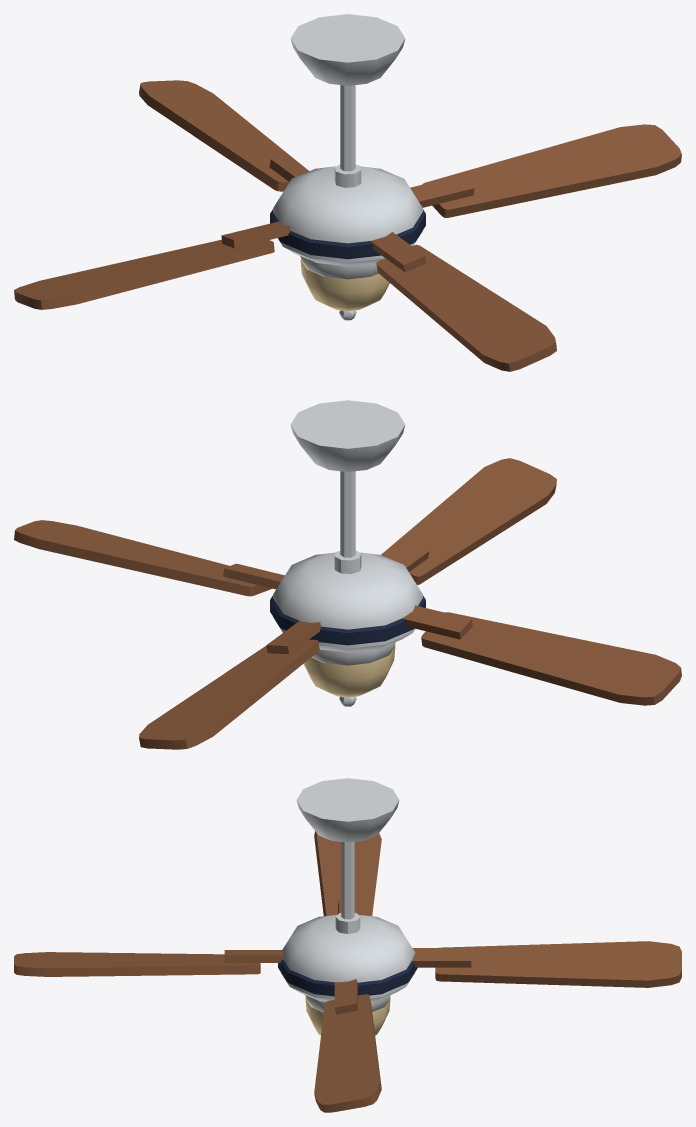
File: Shop_CeilingFan.fbx
3 views of the same model, one above another, from view 1: azimuth 30°, elevation 25°; view 2: azimuth 150°, elevation 25°; view 3: azimuth 270°, elevation 25° (orthographic). The views are drawn at different scales.
Parts seen in each view (by area): view 1: Blades, Chrome, Bowl, Band; view 2: Blades, Chrome, Bowl, Band; view 3: Blades, Chrome, Band, Bowl.
Boxes of the visible parts, bbox=[...] form: Blades: bbox=[14, 80, 681, 371]; Chrome: bbox=[273, 14, 422, 320]; Bowl: bbox=[300, 258, 389, 311]; Band: bbox=[270, 209, 425, 259]; Blades: bbox=[14, 458, 681, 749]; Chrome: bbox=[273, 400, 422, 706]; Bowl: bbox=[303, 644, 395, 697]; Band: bbox=[270, 596, 425, 645]; Blades: bbox=[14, 831, 681, 1112]; Chrome: bbox=[280, 778, 415, 1011]; Band: bbox=[278, 959, 417, 996]; Bowl: bbox=[305, 997, 390, 1035].
Bounding box in the file's own units: 596 × 249 × 596.
